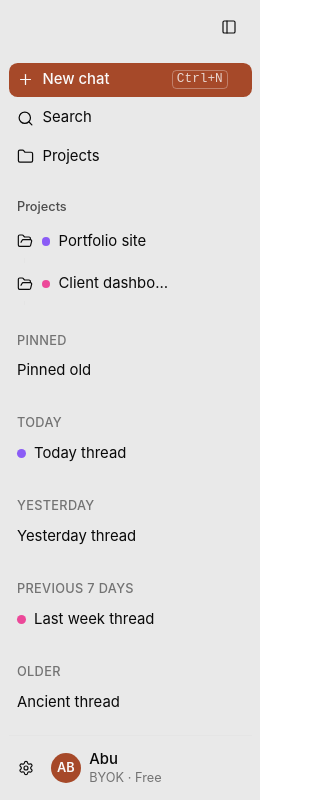
ProjectsRail new chat + footer › collapsed footer keeps the avatar icon
The width and height of the screenshot is (320, 800).
Click the button named "collapse sidebar" at (229, 27), box [214,13,243,42]
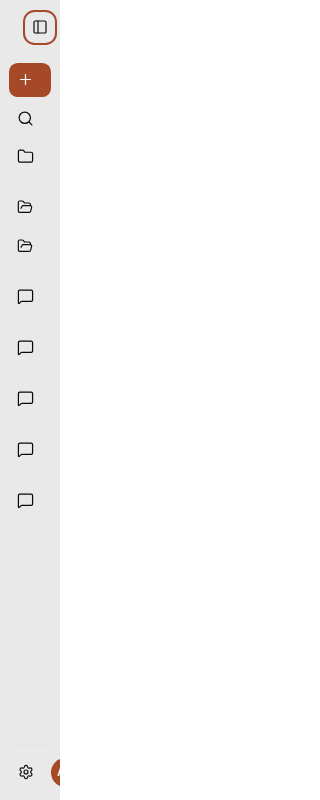
Check: the text with test id "chat-group-TODAY" is gone
